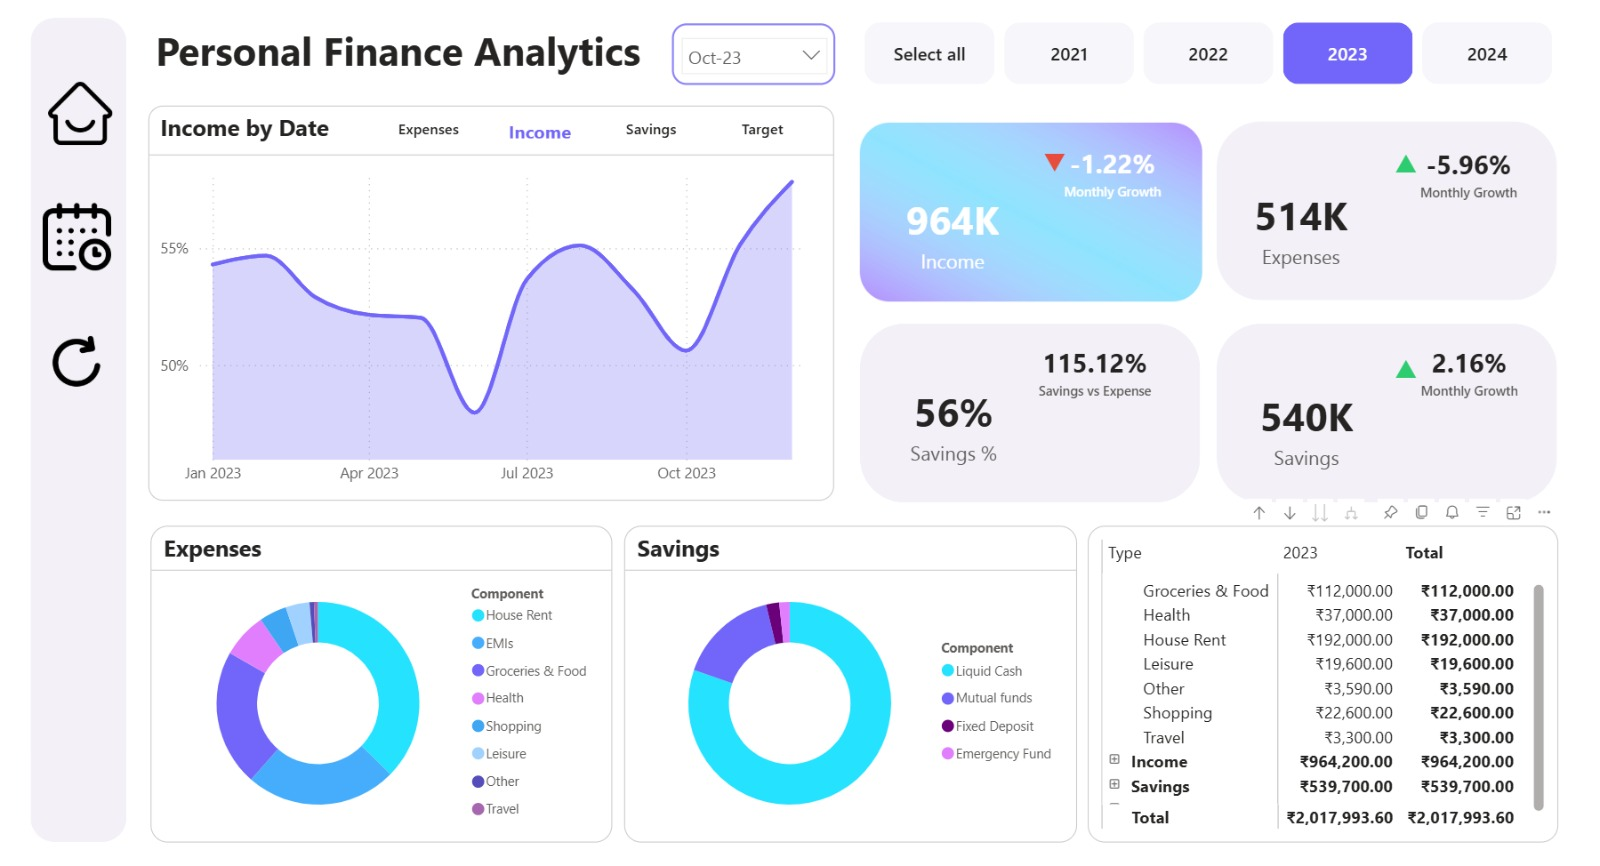

The dashboard page shown, as its layout file describes it:
{"tool":"powerbi","page":{"name":"Personal Finance","canvas":[1280,720],"ordinal":0},"visuals":[{"type":"shape","box":[11.4,25.7,78.6,674.3],"z":0},{"type":"image","box":[690,0,280,368.6],"z":1000},{"type":"shape","box":[981.7,110,278.3,146.7],"z":2000},{"type":"shape","box":[690,275,278.3,146.7],"z":3000},{"type":"shape","box":[981.7,275,278.3,146.7],"z":4000},{"type":"cardVisual","fields":{"Data":["FinData.Savings"]},"box":[971.4,310,167.1,105.7],"z":5000},{"type":"cardVisual","fields":{"Data":["FinData.Income"]},"box":[690.6,152.1,150.8,99.6],"z":6000},{"type":"cardVisual","fields":{"Data":["FinData.Expense"]},"box":[967.1,145.7,167.1,105.7],"z":7000},{"type":"cardVisual","fields":{"Data":["FinData.Savings %"]},"box":[682.5,305.6,168.3,106.4],"z":8000},{"type":"advancedSlicerVisual","fields":{"Values":["Date_Dim.Year"]},"box":[689.3,24.7,574.2,60.3],"z":9000},{"type":"donutChart","title":"Savings ","fields":{"Y":["FinData.Savings"],"Category":["FinData.Component"]},"box":[497.2,440.8,370.4,259.2],"z":10000},{"type":"donutChart","title":"Expenses","fields":{"Category":["FinData.Component"],"Y":["FinData.Expense"]},"box":[109.9,440.8,377.5,259.2],"z":11000},{"type":"pivotTable","fields":{"Values":["FinData.Total_Value"],"Rows":["FinData.Type","FinData.Component"],"Columns":["FinData.Year"]},"box":[876.1,440.8,384.5,259.2],"z":12000},{"type":"areaChart","fields":{"Category":["FinData.Date"],"Y":["FinData.LineChart_Value","FinData.LineChart_Value_NoMMMYY"]},"box":[109,111,560,310],"z":13000},{"type":"advancedSlicerVisual","fields":{"Values":["Line_Selection_Table.type"]},"box":[287.1,111.4,378.6,37.1],"z":14000},{"type":"textbox","box":[109.5,25.7,414.9,59.5],"z":15000},{"type":"slicer","fields":{"Values":["DropDown_Cal.MMM-YY"]},"box":[536.2,30,133.8,50],"z":16000},{"type":"cardVisual","fields":{"Data":["_Measure.Monthly_Income_Growth %"]},"box":[813.1,104.5,168.2,94.7],"z":17000},{"type":"cardVisual","fields":{"Data":["_Measure.Monthly_Expense_Growth %"]},"box":[1116.7,109.4,143.7,86.5],"z":18000},{"type":"cardVisual","fields":{"Data":["_Measure.Monthly_Savings_Growth %"]},"box":[1105.3,269.4,166.5,91.4],"z":19000},{"type":"cardVisual","fields":{"Data":["_Measure.Savings_vs_Expense %"]},"box":[798.4,269.4,168.2,91.4],"z":20000},{"type":"image","box":[24.3,67.1,55.7,72.9],"z":21000},{"type":"cardVisual","fields":{"Data":["_Measure.Expense_Growth_Arrow"]},"box":[1093.9,106.1,86.5,71.8],"z":22000},{"type":"cardVisual","fields":{"Data":["_Measure.Income_Growth_Arrow"]},"box":[806.5,104.5,86.5,73.5],"z":23000},{"type":"image","box":[22.1,167.9,55.7,72.9],"z":24000},{"type":"cardVisual","fields":{"Data":["_Measure.Savings_Growth_Arrow"]},"box":[1093.9,274.3,86.5,71.8],"z":25000},{"type":"actionButton","box":[11.7,183.3,78.3,40],"z":26000},{"type":"image","box":[21.7,270,55,73.3],"z":28000},{"type":"actionButton","box":[11.7,286.7,78.3,40],"z":29000}]}

Visuals, with their boxes on the page's 1280x720 design canvas (x1, y1, x2, y2). These are canvas units, not pixel positions in the 1600x866 screenshot, which may show the page scaled, cropped or inside an application window:
shape: 11,26,90,700
image: 690,0,970,369
shape: 982,110,1260,257
shape: 690,275,968,422
shape: 982,275,1260,422
cardVisual - FinData.Savings: 971,310,1138,416
cardVisual - FinData.Income: 691,152,841,252
cardVisual - FinData.Expense: 967,146,1134,251
cardVisual - FinData.Savings %: 682,306,851,412
advancedSlicerVisual - Date_Dim.Year: 689,25,1264,85
"Savings " donutChart: 497,441,868,700
"Expenses" donutChart: 110,441,487,700
pivotTable - FinData.Total_Value x FinData.Type: 876,441,1261,700
areaChart - FinData.Date x FinData.LineChart_Value: 109,111,669,421
advancedSlicerVisual - Line_Selection_Table.type: 287,111,666,148
textbox: 110,26,524,85
slicer - DropDown_Cal.MMM-YY: 536,30,670,80
cardVisual - _Measure.Monthly_Income_Growth %: 813,104,981,199
cardVisual - _Measure.Monthly_Expense_Growth %: 1117,109,1260,196
cardVisual - _Measure.Monthly_Savings_Growth %: 1105,269,1272,361
cardVisual - _Measure.Savings_vs_Expense %: 798,269,967,361
image: 24,67,80,140
cardVisual - _Measure.Expense_Growth_Arrow: 1094,106,1180,178
cardVisual - _Measure.Income_Growth_Arrow: 806,104,893,178
image: 22,168,78,241
cardVisual - _Measure.Savings_Growth_Arrow: 1094,274,1180,346
actionButton: 12,183,90,223
image: 22,270,77,343
actionButton: 12,287,90,327
